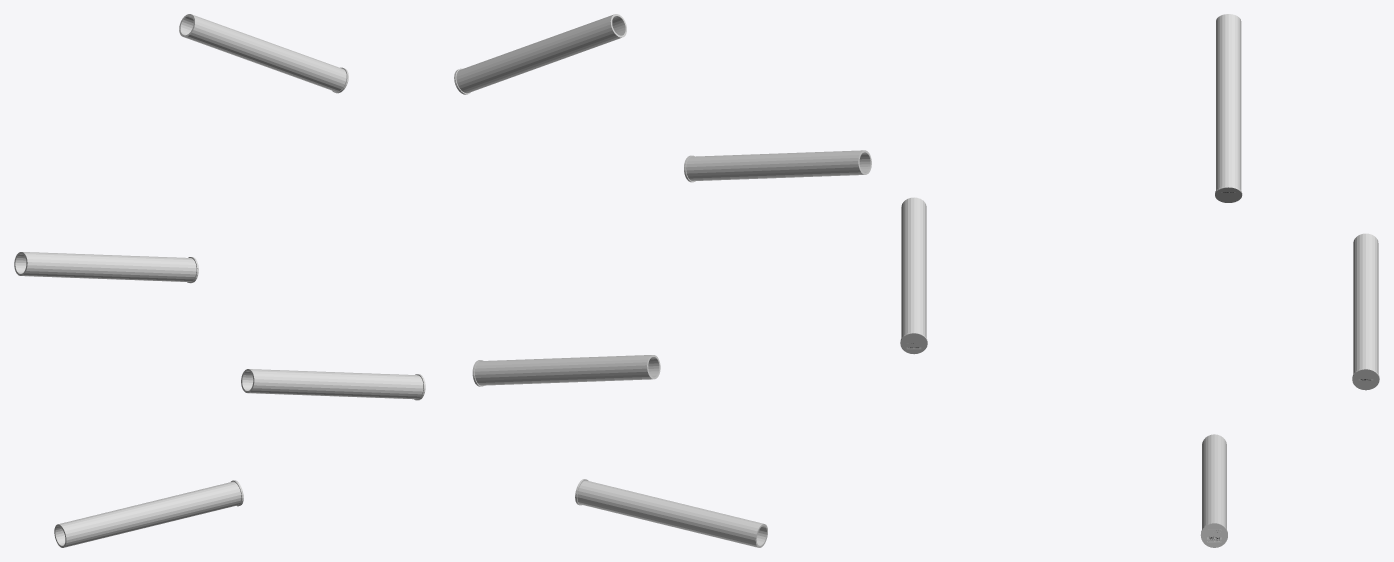
Rendered from O2_paipu_fin.dae.
The picture shows the model from 3 angles, left to right: view 1: azimuth 30°, elevation 25°; view 2: azimuth 150°, elevation 25°; view 3: azimuth 270°, elevation 25°; orthographic projection. The views are drawn at different scales.
Visible parts, largest first — view 1: Group5, Group6, Group3, Group4; view 2: Group5, Group3, Group6, Group4; view 3: Group4, Group3, Group6, Group5.
Boxes of the visible parts, x1,y1,x2,y2 form: Group5: (54, 480, 243, 547); Group6: (241, 369, 425, 400); Group3: (14, 252, 198, 283); Group4: (179, 14, 348, 93); Group5: (575, 479, 767, 547); Group3: (472, 355, 660, 386); Group6: (684, 150, 871, 182); Group4: (454, 14, 626, 94); Group4: (1215, 14, 1242, 202); Group3: (1352, 233, 1379, 390); Group6: (900, 197, 927, 354); Group5: (1200, 434, 1227, 547).
Bounding box in the file's own units: 0.167 × 0.2278 × 0.2699.
